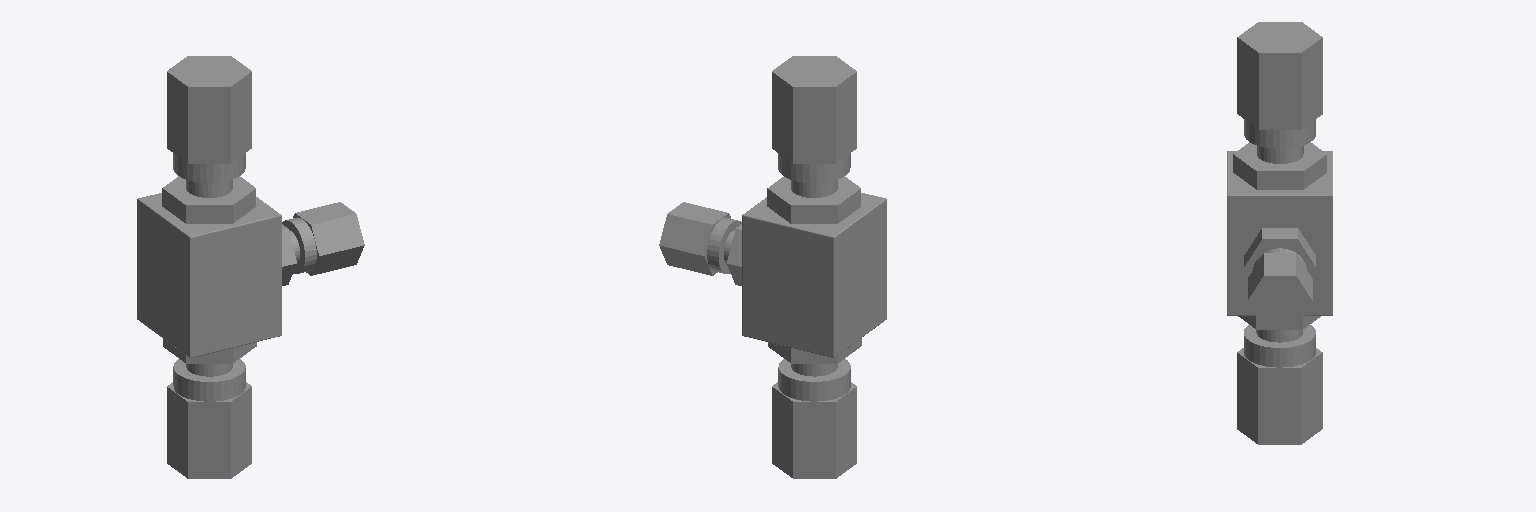
The model's file is boitier_hydraulique_t3.obj.
The picture shows the model from 3 angles: view 1: azimuth 30°, elevation 25°; view 2: azimuth 150°, elevation 25°; view 3: azimuth 270°, elevation 25°; orthographic projection.
Visible parts, largest first — view 1: boitier_hydraulique.06_Cube.035; view 2: boitier_hydraulique.06_Cube.035; view 3: boitier_hydraulique.06_Cube.035.
Boxes of the visible parts, box(x1,y1,x2,y2) form: boitier_hydraulique.06_Cube.035: box(137, 56, 364, 478); boitier_hydraulique.06_Cube.035: box(659, 56, 886, 478); boitier_hydraulique.06_Cube.035: box(1227, 22, 1332, 444).
Size of the model in its own units: 3.08 by 6.23 by 1.53.